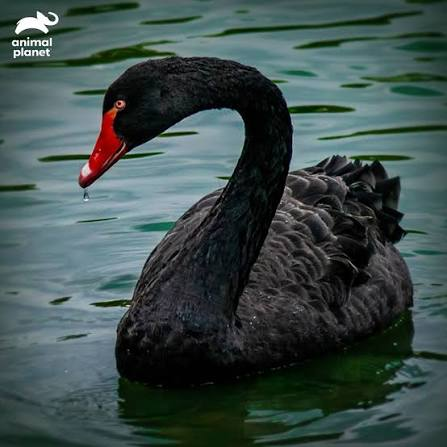black_swan: (77, 55, 415, 390)
